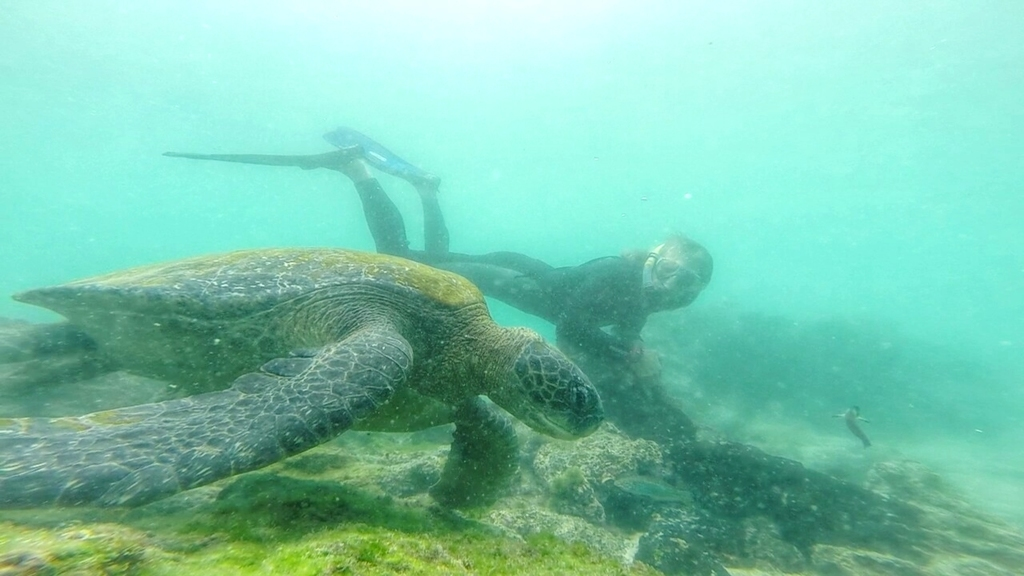Sea turtles: (0, 242, 604, 515)
